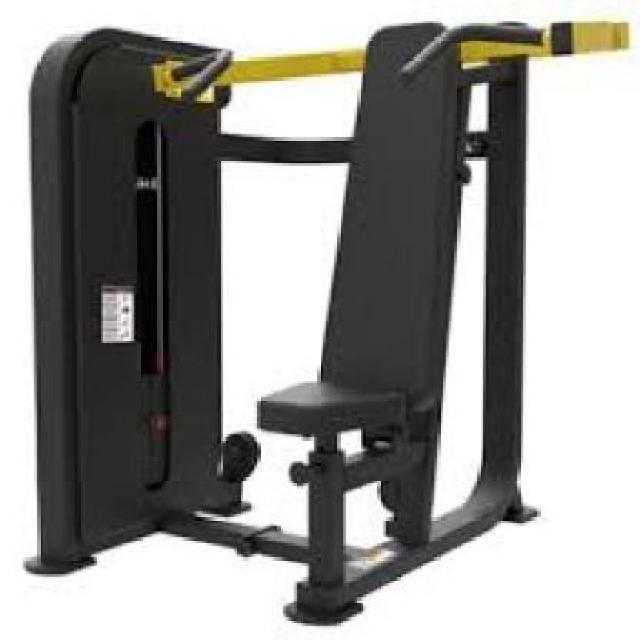shoulder press machine: (18, 11, 637, 631)
